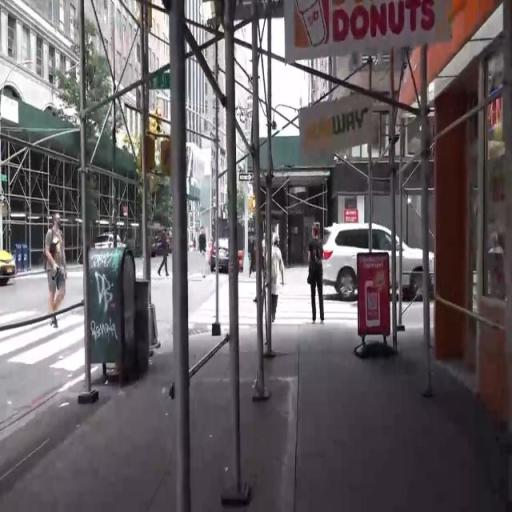person: (40, 207, 69, 312), (310, 224, 328, 333), (270, 237, 286, 335), (199, 225, 210, 279), (163, 226, 171, 286)
